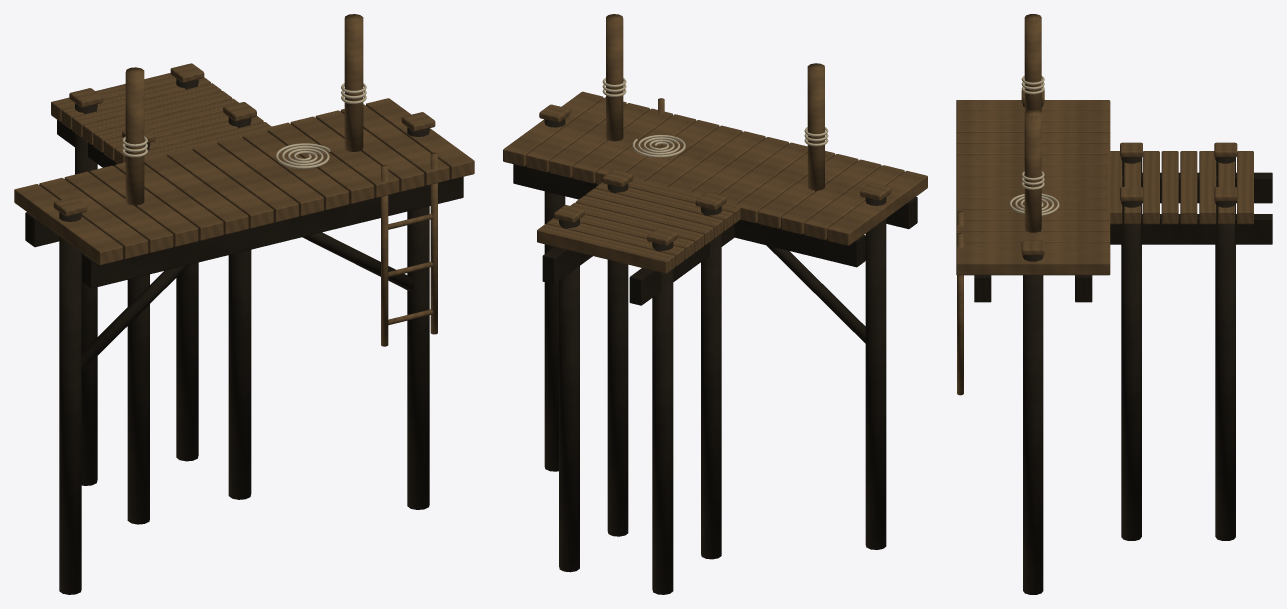
Rendered from timber-dock.glb.
The picture shows the model from 3 angles, left to right: view 1: azimuth 30°, elevation 25°; view 2: azimuth 150°, elevation 25°; view 3: azimuth 270°, elevation 25°; orthographic projection. The views are drawn at different scales.
Visible parts, largest first — view 1: timber-dock; view 2: timber-dock; view 3: timber-dock.
Part boxes in pixels (left/top/right/bottom): timber-dock: left=14, top=14, right=474, bottom=594; timber-dock: left=503, top=14, right=927, bottom=594; timber-dock: left=956, top=14, right=1272, bottom=594.
Size of the model in its own units: 0.4527 by 0.58 by 0.37.
4 materials, 2 textured.
